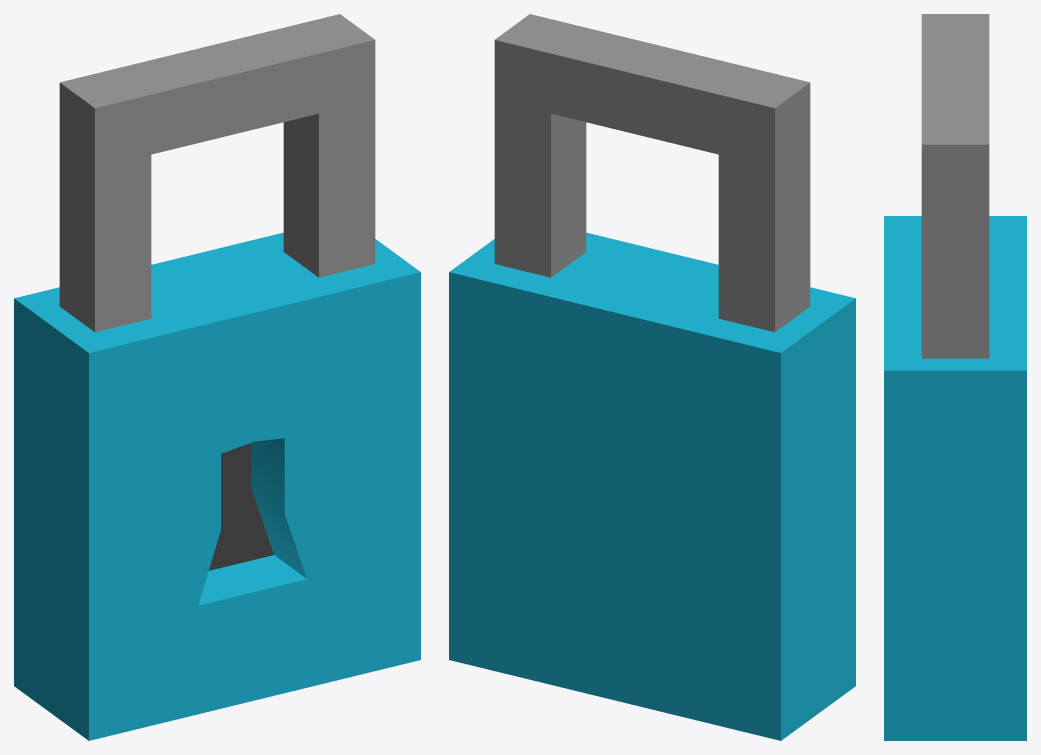
File: PlasticLockBlue.fbx
3 renders of one model, left to right at view 1: azimuth 30°, elevation 25°; view 2: azimuth 150°, elevation 25°; view 3: azimuth 270°, elevation 25°, orthographic. The views are drawn at different scales.
Visible parts, largest first — view 1: PlasticLockBlue; view 2: PlasticLockBlue; view 3: PlasticLockBlue.
Boxes of the visible parts, x1,y1,x2,y2 form: PlasticLockBlue: [14, 14, 420, 740]; PlasticLockBlue: [449, 14, 855, 740]; PlasticLockBlue: [884, 14, 1026, 740].
Bounding box in the file's own units: 0.3022 × 0.5325 × 0.118.
